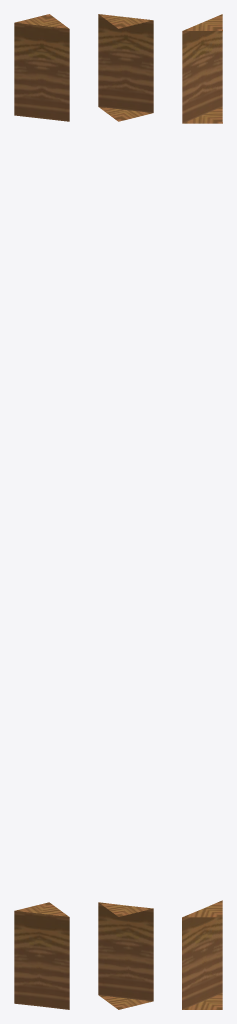
The model's file is Corner_Exterior_TopDown.gltf.
3 renders of one model, left to right at view 1: azimuth 30°, elevation 25°; view 2: azimuth 210°, elevation 25°; view 3: azimuth 270°, elevation 25°, orthographic.
Parts seen in each view (by area): view 1: Corner_Exterior_TopDown; view 2: Corner_Exterior_TopDown; view 3: Corner_Exterior_TopDown.
Part boxes in pixels (box(x1,y1,x2,y2)): Corner_Exterior_TopDown: box(14, 14, 69, 1009); Corner_Exterior_TopDown: box(98, 14, 153, 1009); Corner_Exterior_TopDown: box(182, 14, 222, 1009).
Bounding box in the file's own units: 0.093 × 2.47 × 0.093.
Materials: 1 (1 with a texture image).
